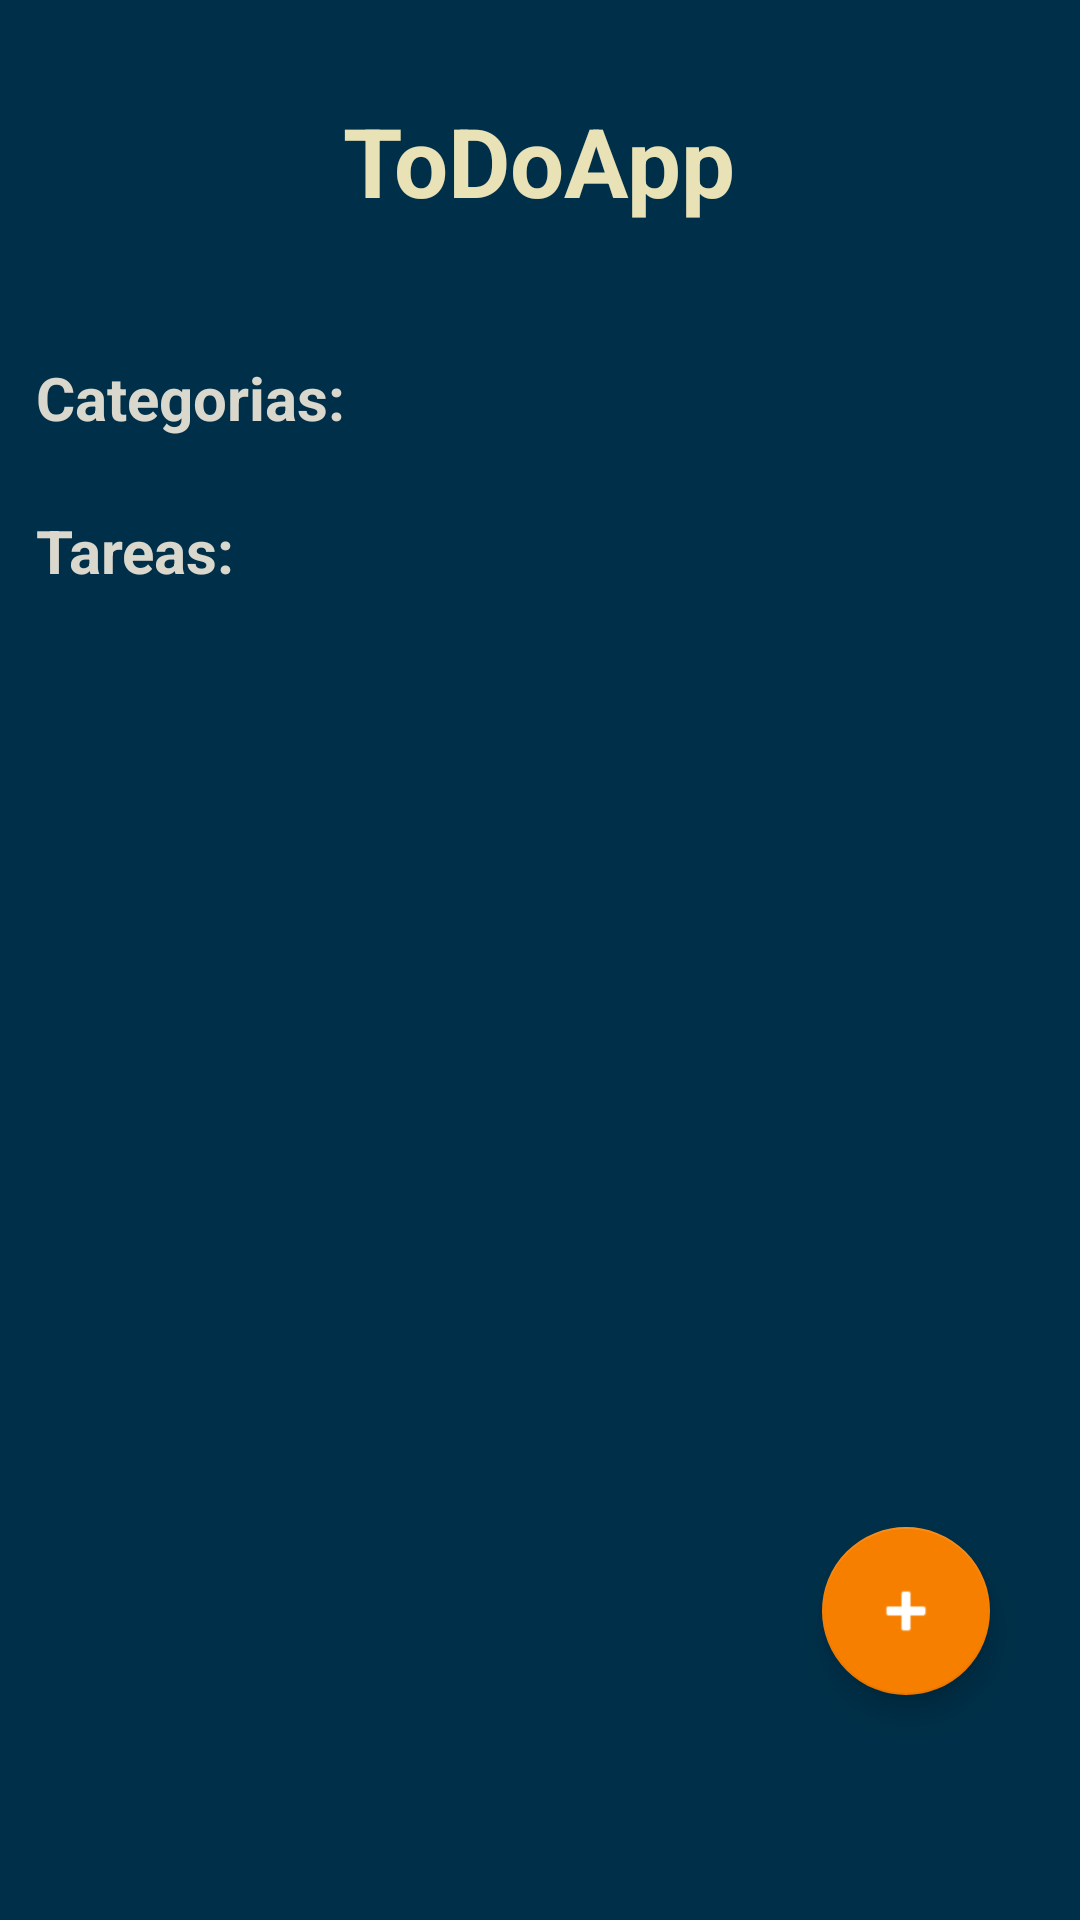

Screen size 1080 x 1920. Icon name, then its box in pixels as (left=x1, top=y1, right=x2, bottom=y2):
add: (left=822, top=1527, right=990, bottom=1695)
